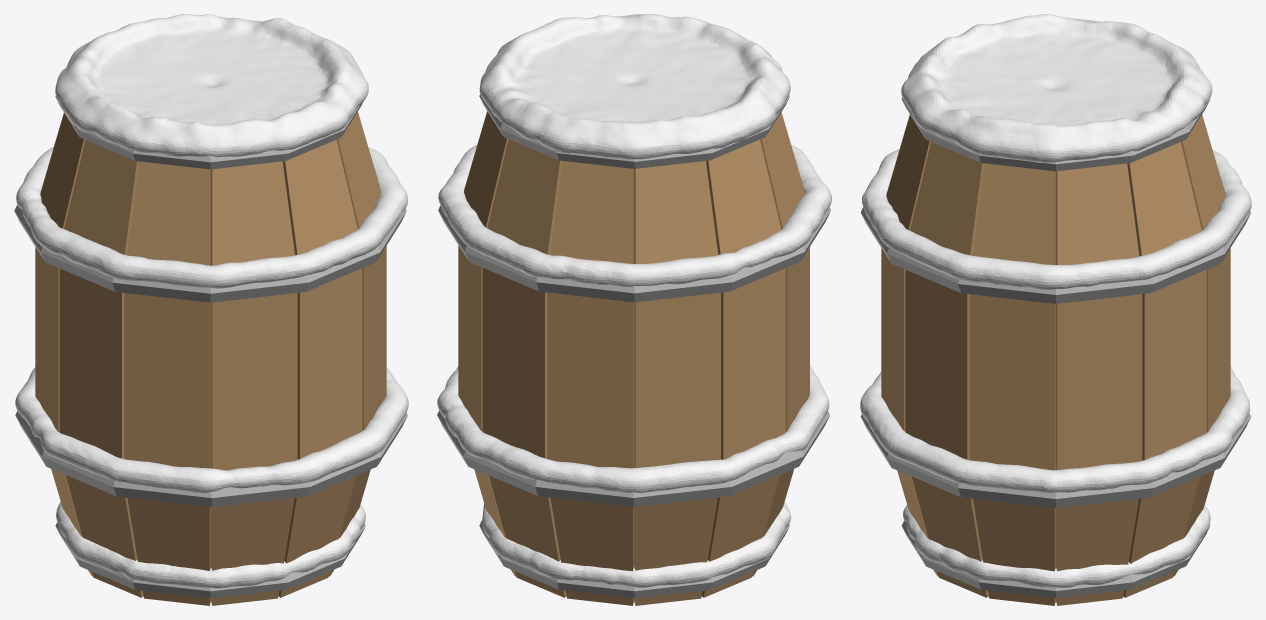
The model's file is WoodenBarrelSNOW.fbx.
3 views of the same model, side by side, from view 1: azimuth 30°, elevation 25°; view 2: azimuth 150°, elevation 25°; view 3: azimuth 270°, elevation 25° (orthographic).
Parts seen in each view (by area): view 1: WoodenBarrel, SnowBall.001; view 2: WoodenBarrel, SnowBall.001; view 3: WoodenBarrel, SnowBall.001.
Part boxes in pixels (box(x1,y1,x2,y2)): WoodenBarrel: box(14, 96, 407, 605); SnowBall.001: box(15, 14, 408, 588); WoodenBarrel: box(437, 94, 830, 605); SnowBall.001: box(437, 14, 831, 587); WoodenBarrel: box(860, 97, 1251, 605); SnowBall.001: box(860, 14, 1251, 587).
Size of the model in its own units: 302 by 408 by 302.
